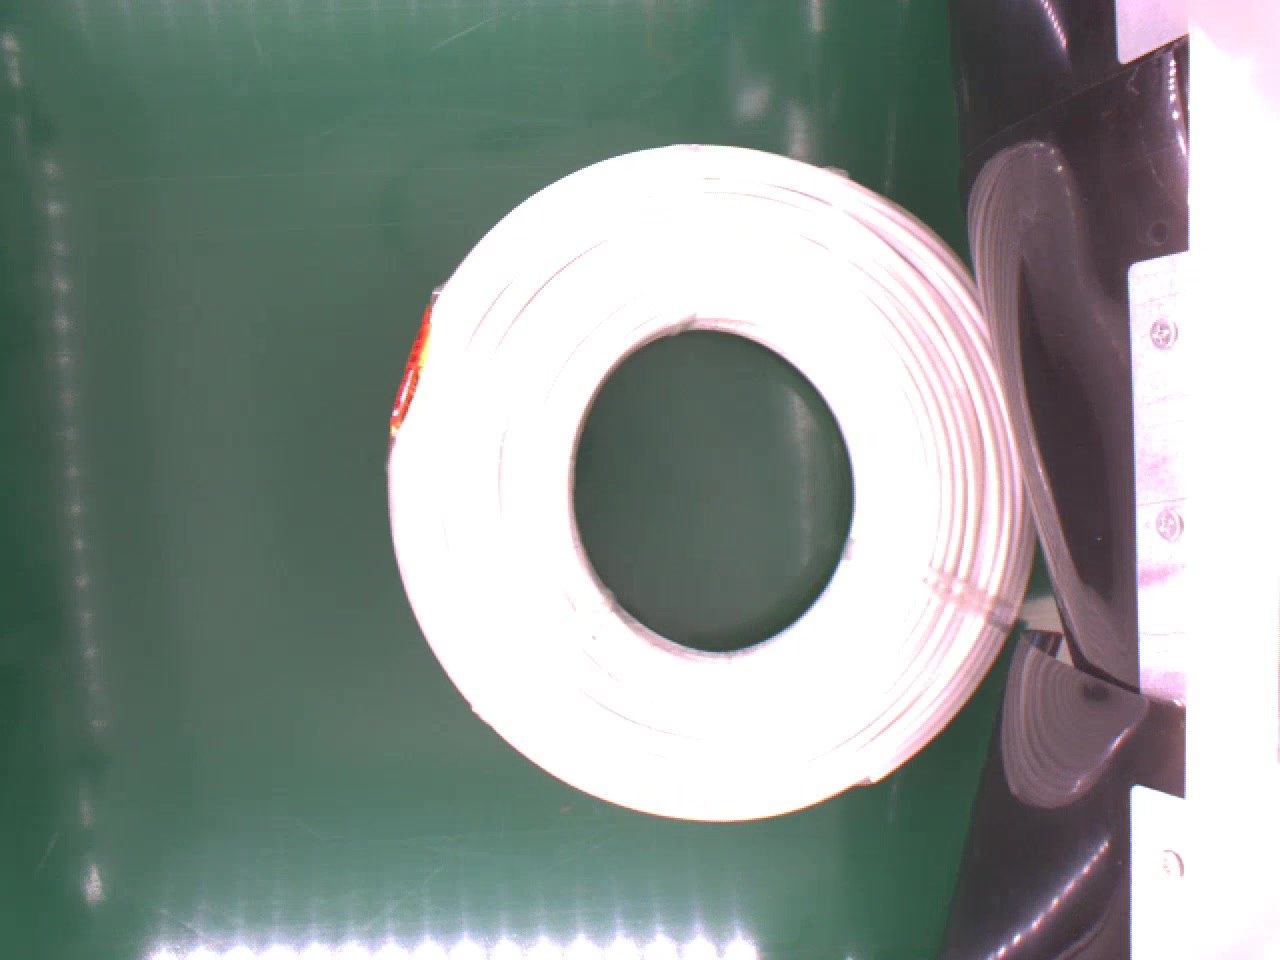white: (383, 132, 1037, 819)
